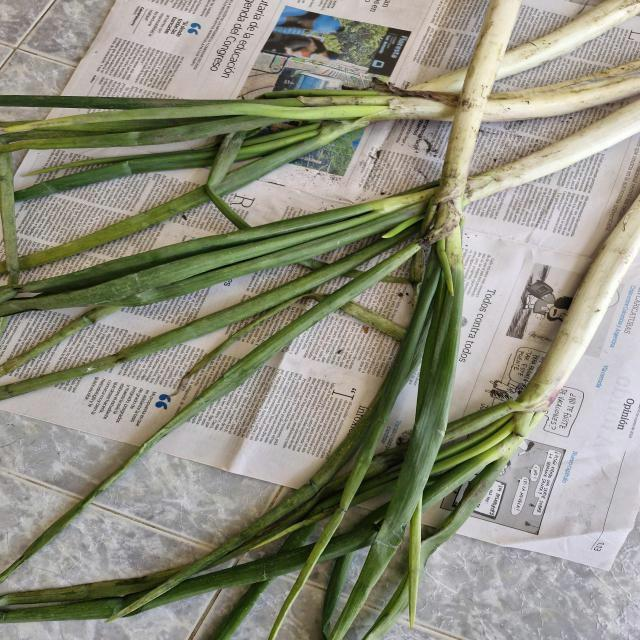green_onion: (0, 98, 640, 411), (251, 194, 639, 640), (0, 51, 640, 215)
